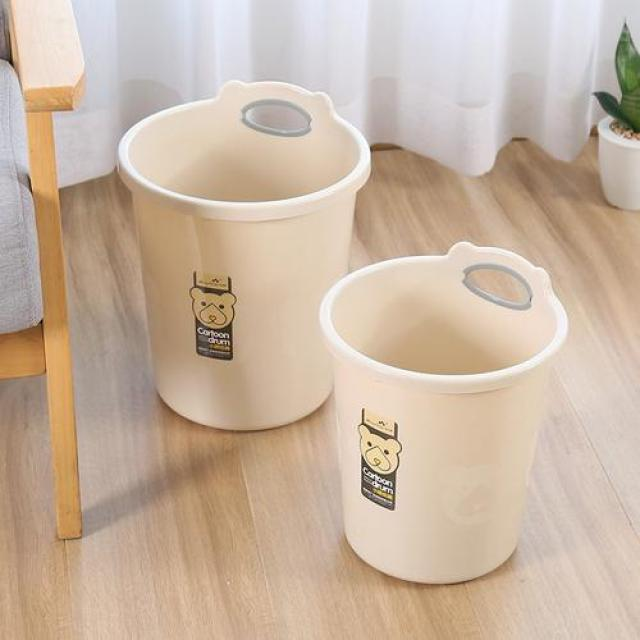dustbin: (112, 74, 374, 447)
